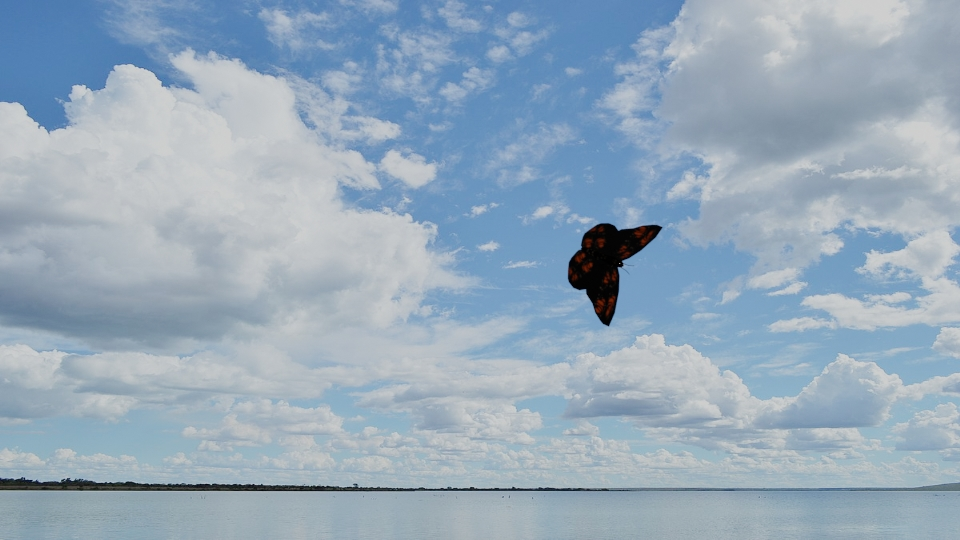insect: (569, 222, 664, 325)
